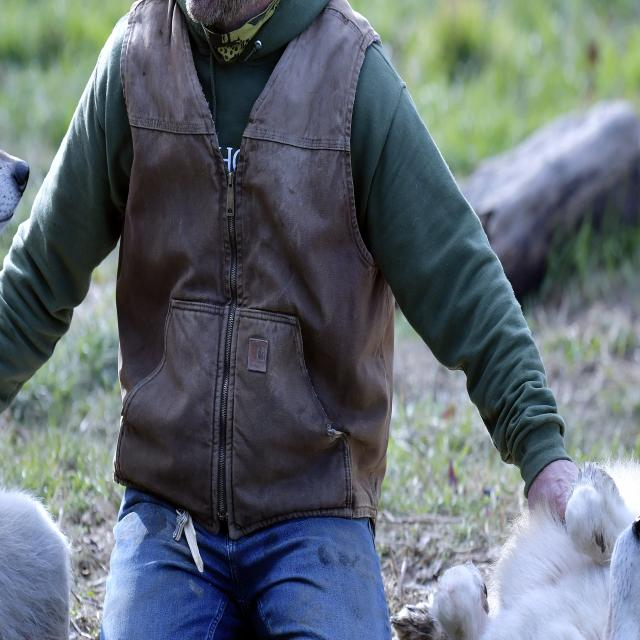wolf: (0, 0, 121, 640), (379, 372, 640, 640)
